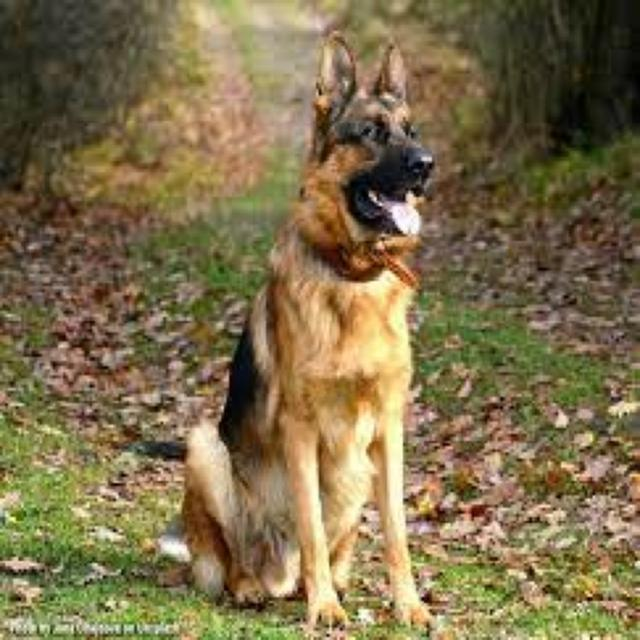Dog: (264, 38, 477, 281)
